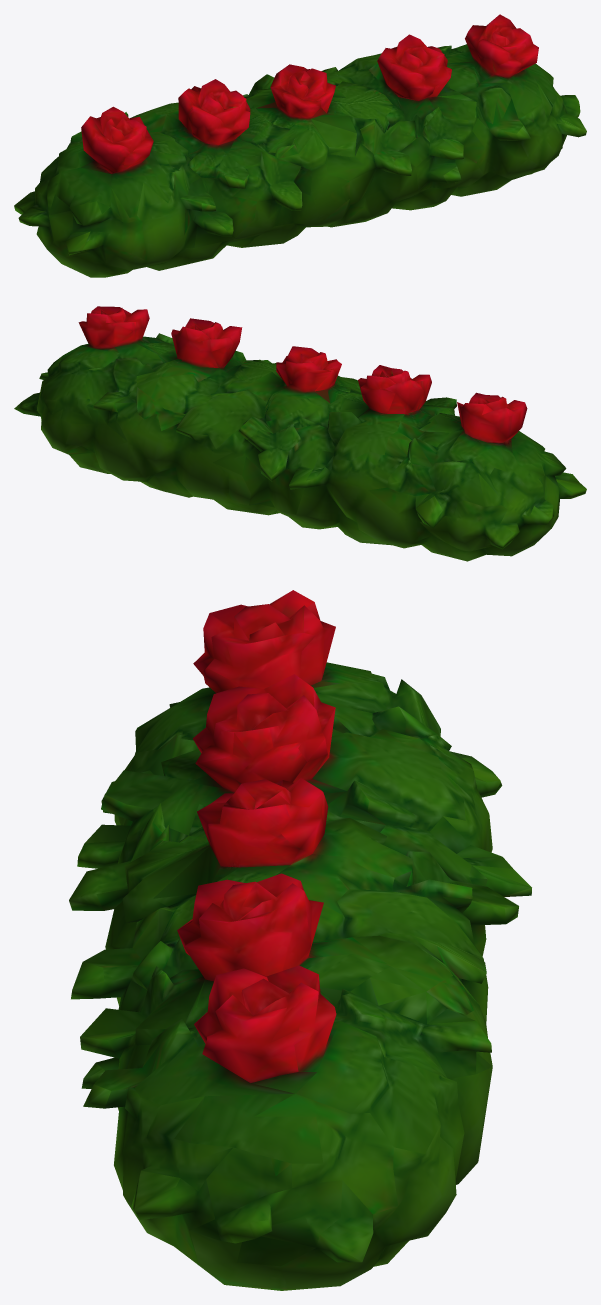
File: rose-bush.glb
The picture shows the model from 3 angles, top to bottom: view 1: azimuth 30°, elevation 25°; view 2: azimuth 150°, elevation 25°; view 3: azimuth 270°, elevation 25°; orthographic projection. The views are drawn at different scales.
Parts seen in each view (by area): view 1: tripo_node_e3b53bbe-4193-456c-8cbc-0792f46fdca6; view 2: tripo_node_e3b53bbe-4193-456c-8cbc-0792f46fdca6; view 3: tripo_node_e3b53bbe-4193-456c-8cbc-0792f46fdca6.
Boxes of the visible parts, <box> form: tripo_node_e3b53bbe-4193-456c-8cbc-0792f46fdca6: <box>14,14,586,277</box>; tripo_node_e3b53bbe-4193-456c-8cbc-0792f46fdca6: <box>14,306,586,561</box>; tripo_node_e3b53bbe-4193-456c-8cbc-0792f46fdca6: <box>69,590,531,1290</box>.
Bounding box in the file's own units: 0.9811 × 0.2579 × 0.3708.
Materials: 1 (1 with a texture image).
